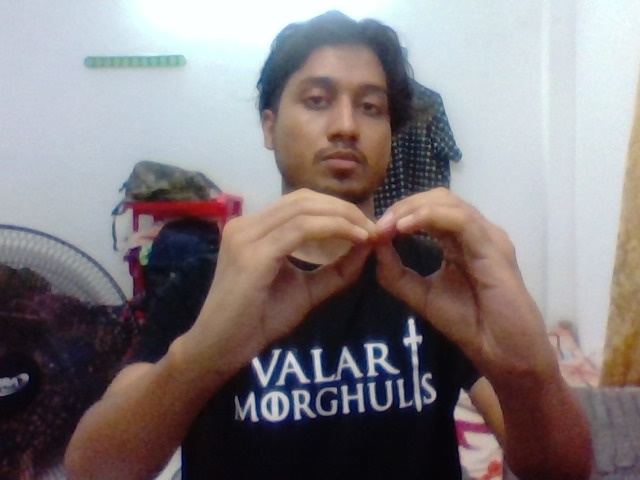B: (200, 167, 551, 384)
